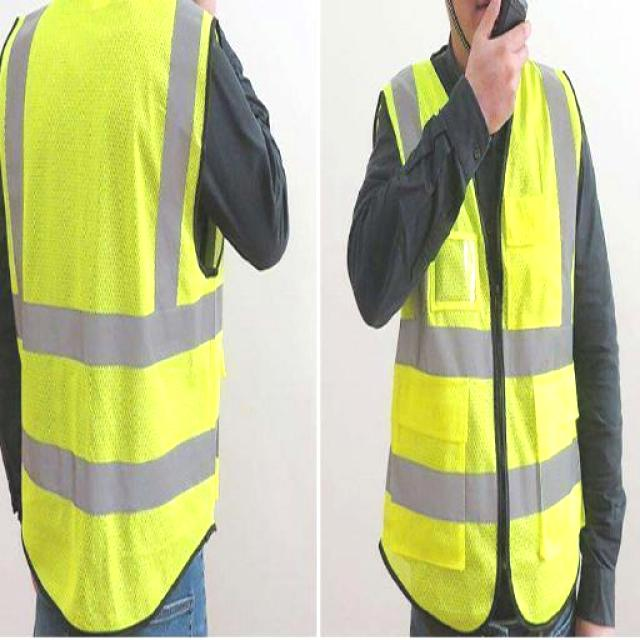hand_noglove: (462, 0, 538, 129)
vest: (1, 0, 228, 634), (378, 47, 582, 628)
